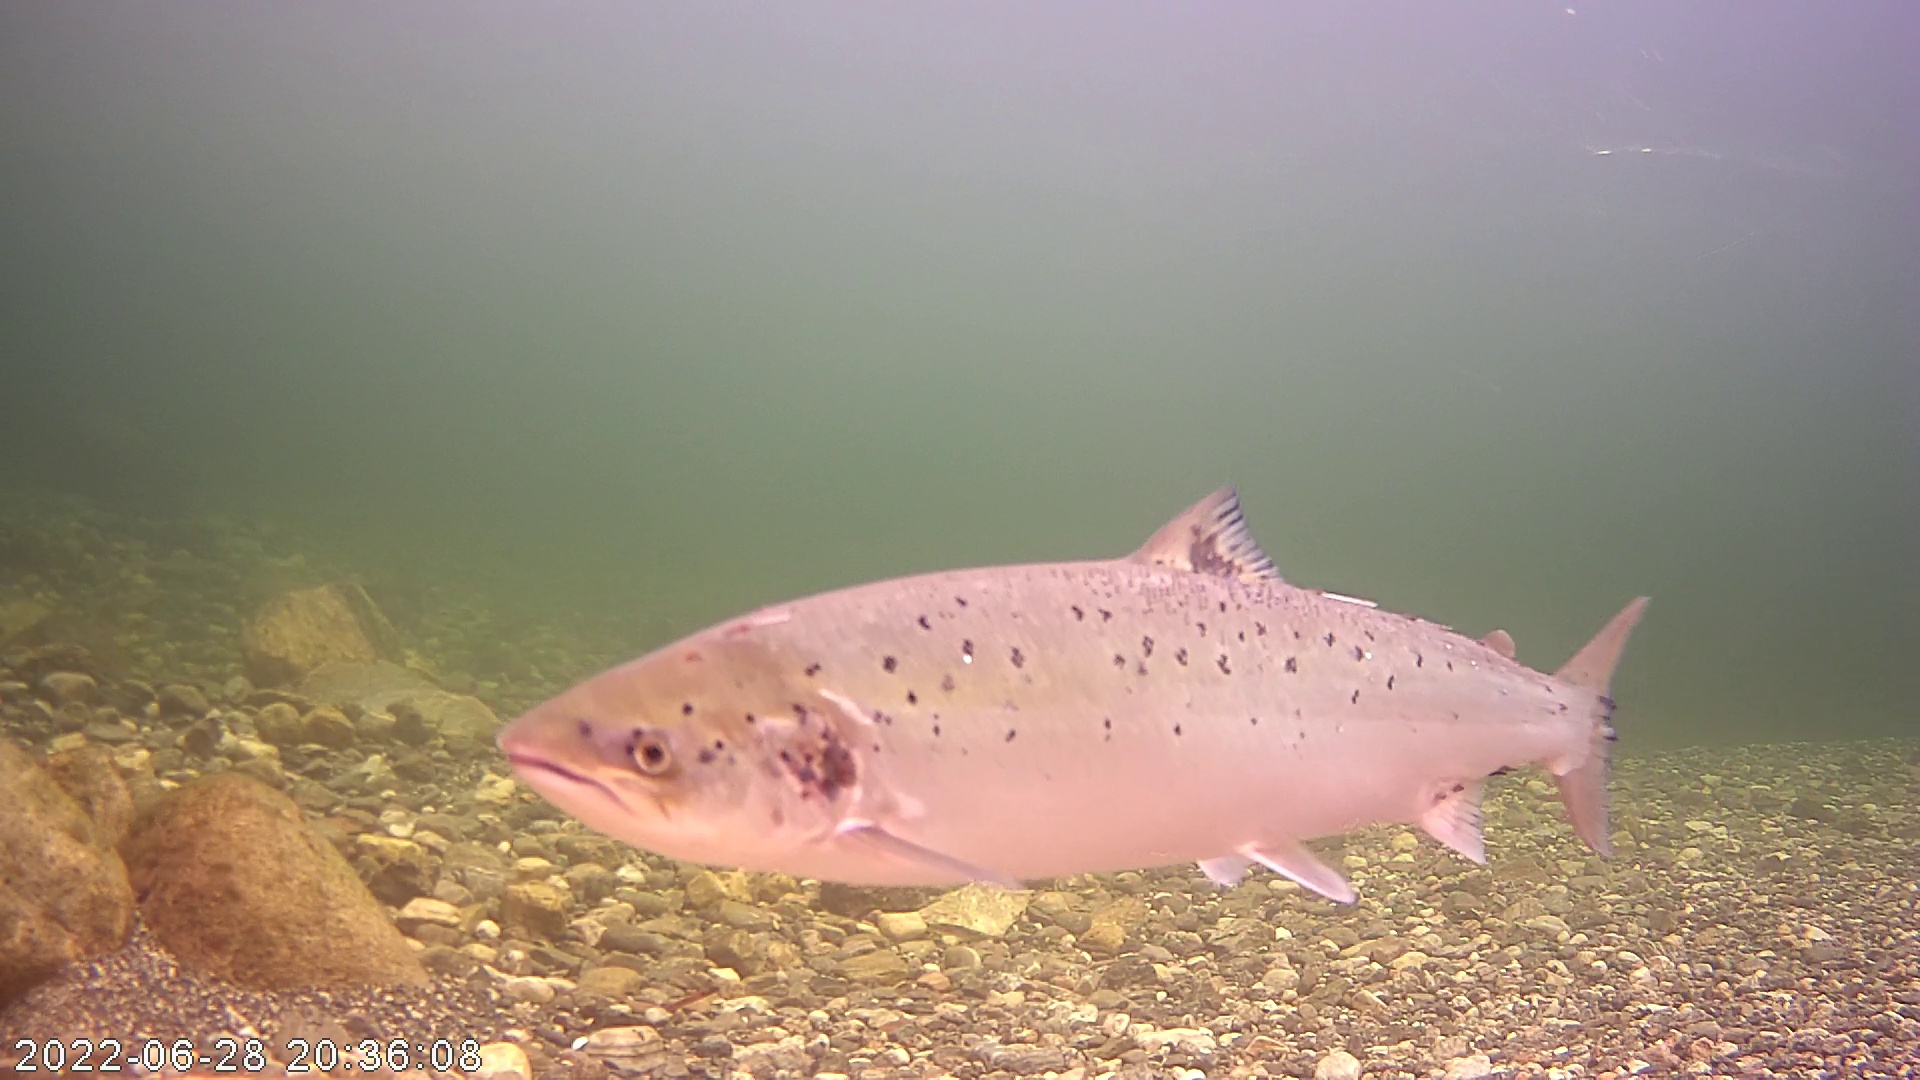salmon: (535, 440, 1665, 905)
